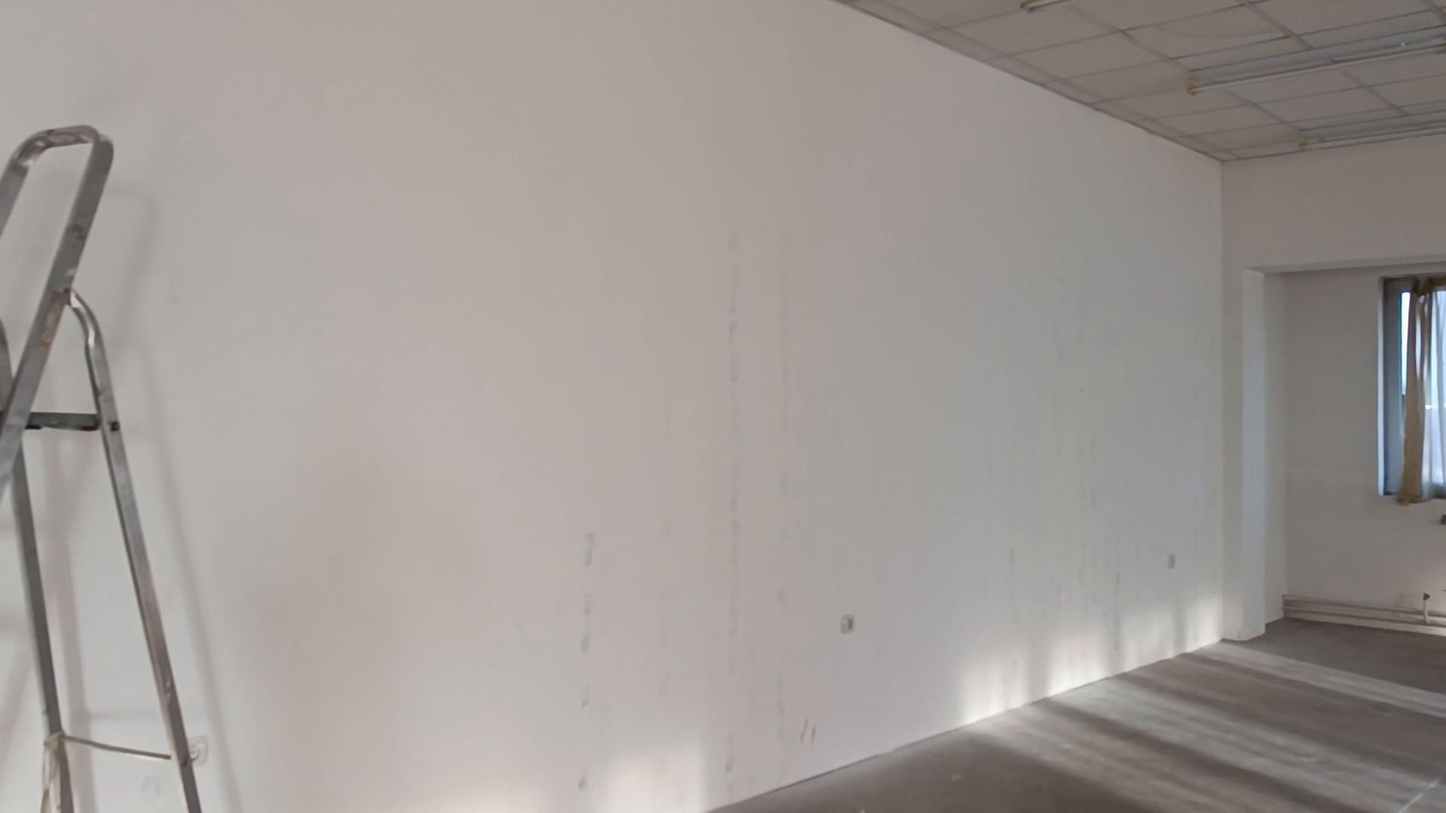ceiling: (840, 0, 1445, 160)
floor: (716, 619, 1445, 812)
wall: (0, 0, 1445, 812), (1293, 282, 1445, 615), (28, 433, 160, 741)
